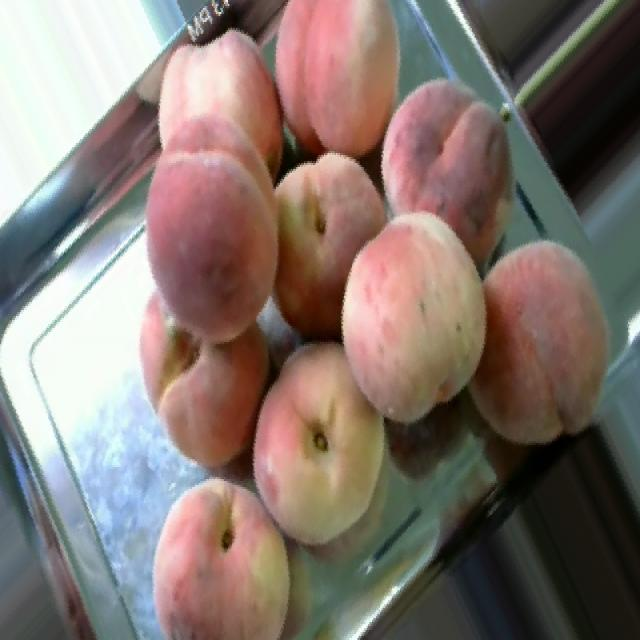Fruit: (108, 6, 327, 368), (310, 197, 514, 445), (448, 213, 640, 465), (348, 58, 549, 286), (226, 318, 410, 566), (112, 284, 307, 489), (127, 459, 321, 640), (259, 0, 436, 183)
